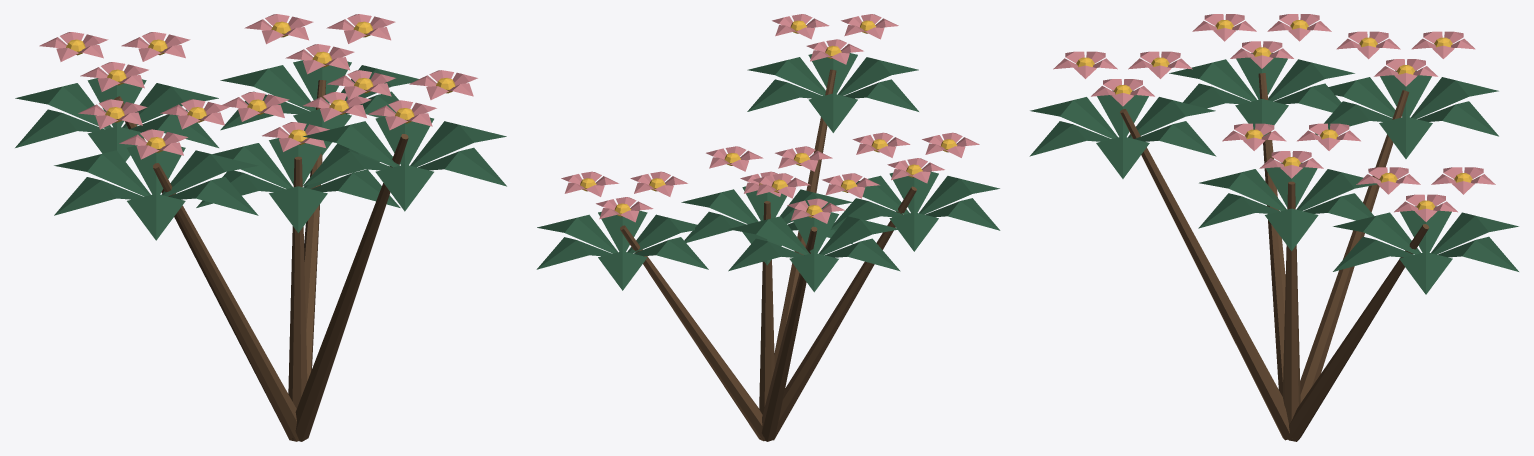
File: b08_rhododendron.glb
3 renders of one model, left to right at view 1: azimuth 30°, elevation 25°; view 2: azimuth 150°, elevation 25°; view 3: azimuth 270°, elevation 25°, orthographic. The views are drawn at different scales.
Visible parts, largest first — view 1: b08_rhododendron; view 2: b08_rhododendron; view 3: b08_rhododendron.
Part boxes in pixels (x1=…): b08_rhododendron: x1=15, y1=14, x2=506, y2=441; b08_rhododendron: x1=536, y1=14, x2=1000, y2=441; b08_rhododendron: x1=1029, y1=14, x2=1518, y2=441.
Size of the model in its own units: 1.35 by 1.16 by 1.36.
